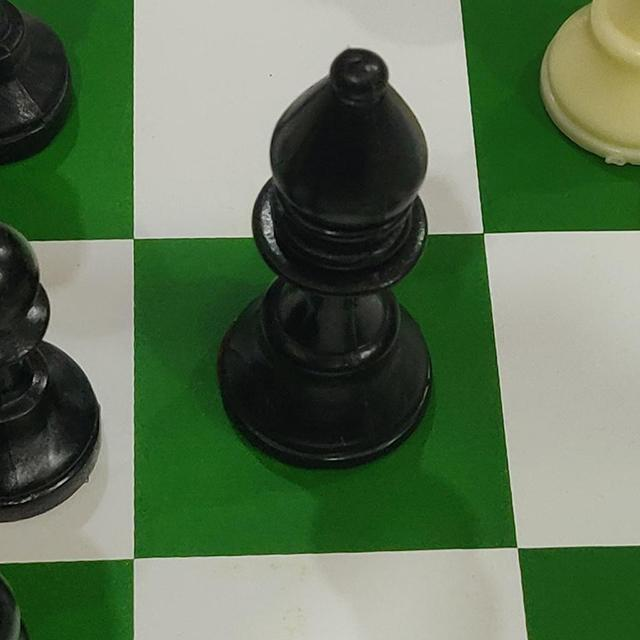black-bishop: (218, 47, 437, 474)
black-pawn: (0, 220, 101, 525)
